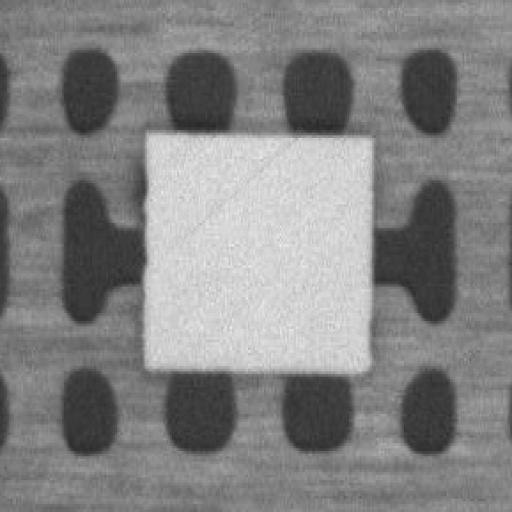DIE_CRACK: (247, 87, 448, 166)
